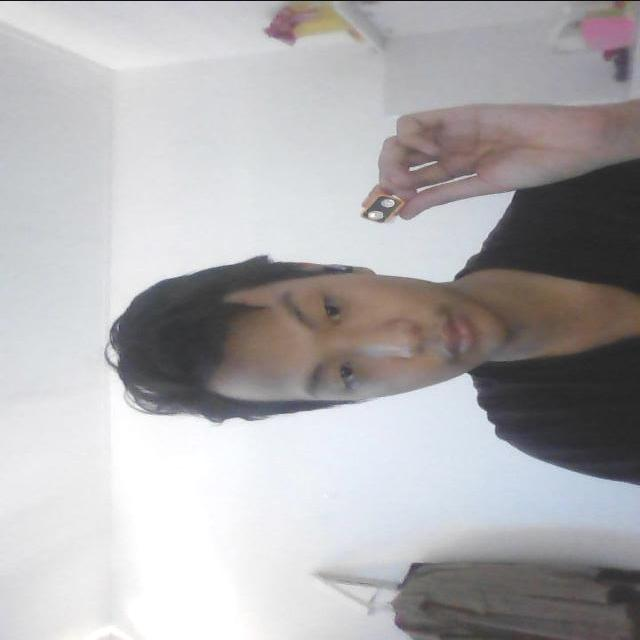9V: (352, 186, 422, 226)
